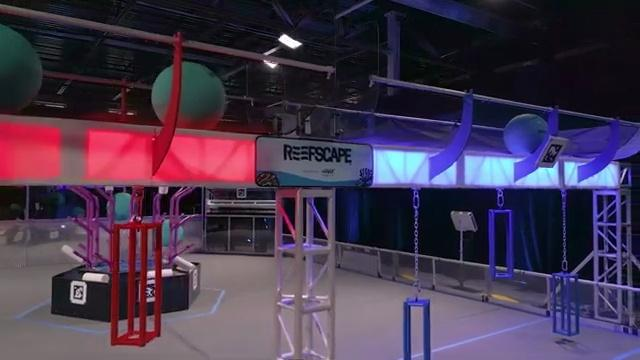ALGAE: (150, 60, 226, 130), (0, 22, 44, 116), (503, 112, 550, 158)
